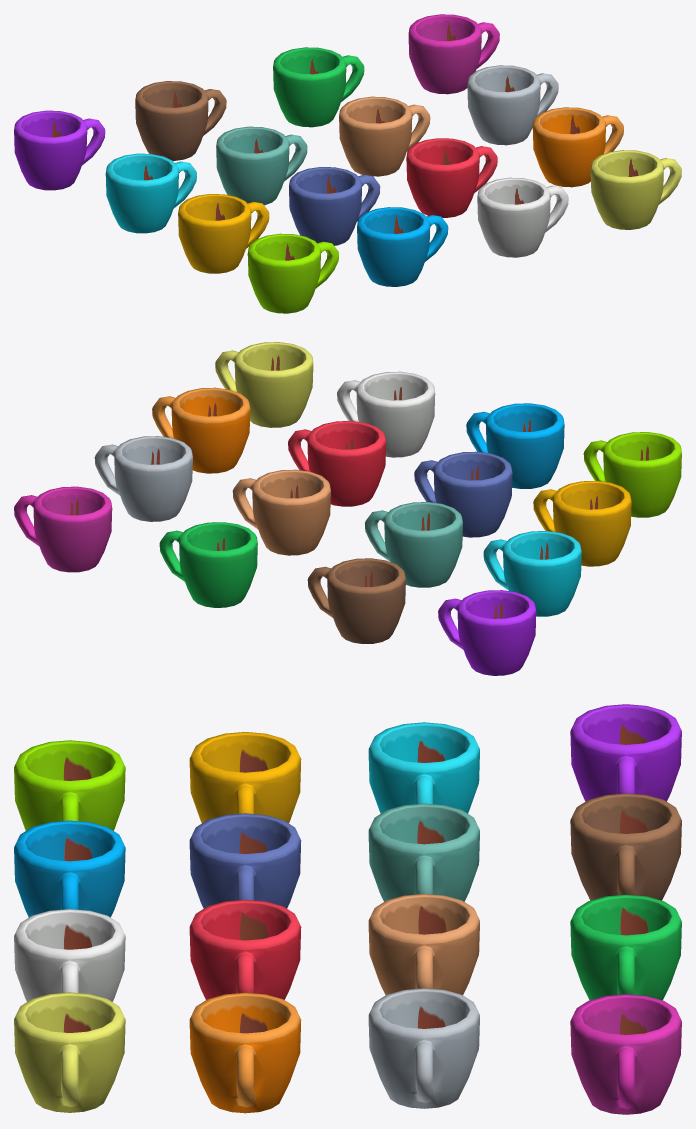
Rendered from Cups.fbx.
3 renders of one model, top to bottom at view 1: azimuth 30°, elevation 25°; view 2: azimuth 150°, elevation 25°; view 3: azimuth 270°, elevation 25°, orthographic. The views are drawn at different scales.
Visible parts, largest first — view 1: Cup_02, Cup_14, Cup_16, Cup_12, Cup_01, Cup_03, Cup_04, Cup_08, Cup_09, Cup_10, Cup_06, Cup_13 (+4 smaller); view 2: Cup_10, Cup_09, Cup_13, Cup_14, Cup_16, Cup_15, Cup_11, Cup_01, Cup_05, Cup_12, Cup_06, Cup_03 (+4 smaller); view 3: Cup_01, Cup_13, Cup_09, Cup_05, Cup_15, Cup_14, Cup_10, Cup_06, Cup_11, Cup_16, Cup_03, Cup_07 (+4 smaller).
Boxes of the visible parts, x1=… form: Cup_02: x1=477, y1=177, x2=568, y2=257; Cup_14: x1=273, y1=47, x2=364, y2=127; Cup_16: x1=14, y1=110, x2=105, y2=190; Cup_12: x1=105, y1=153, x2=196, y2=233; Cup_01: x1=590, y1=150, x2=681, y2=229; Cup_03: x1=357, y1=207, x2=448, y2=286; Cup_04: x1=247, y1=233, x2=338, y2=313; Cup_08: x1=178, y1=194, x2=269, y2=273; Cup_09: x1=467, y1=65, x2=558, y2=145; Cup_10: x1=339, y1=96, x2=430, y2=176; Cup_06: x1=406, y1=138, x2=497, y2=217; Cup_13: x1=408, y1=14, x2=499, y2=94; Cup_10: x1=232, y1=469, x2=330, y2=555; Cup_09: x1=94, y1=436, x2=192, y2=521; Cup_13: x1=14, y1=486, x2=112, y2=572; Cup_14: x1=159, y1=522, x2=257, y2=607; Cup_16: x1=438, y1=590, x2=536, y2=675; Cup_15: x1=307, y1=558, x2=405, y2=643; Cup_11: x1=365, y1=502, x2=462, y2=587; Cup_01: x1=215, y1=342, x2=313, y2=427; Cup_05: x1=152, y1=387, x2=250, y2=473; Cup_12: x1=483, y1=531, x2=581, y2=616; Cup_06: x1=288, y1=421, x2=386, y2=506; Cup_03: x1=466, y1=403, x2=564, y2=488; Cup_01: x1=14, y1=992, x2=125, y2=1112; Cup_13: x1=570, y1=994, x2=681, y2=1114; Cup_09: x1=368, y1=988, x2=479, y2=1108; Cup_05: x1=189, y1=992, x2=301, y2=1113; Cup_15: x1=570, y1=793, x2=681, y2=900; Cup_14: x1=570, y1=894, x2=681, y2=1000; Cup_10: x1=368, y1=894, x2=479, y2=994; Cup_06: x1=189, y1=899, x2=301, y2=999; Cup_11: x1=368, y1=803, x2=479, y2=901; Cup_16: x1=570, y1=704, x2=681, y2=801; Cup_03: x1=14, y1=820, x2=125, y2=917; Cup_07: x1=189, y1=813, x2=301, y2=908.
Bounding box in the file's own units: 977 × 110 × 780.
Materials: 1 (1 with a texture image).
